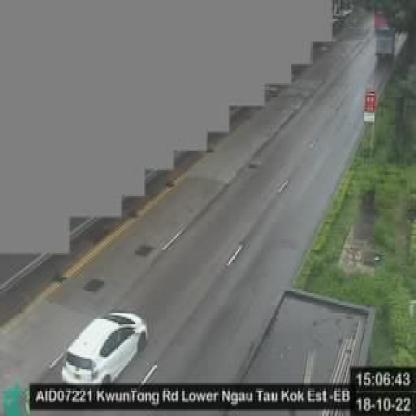Car: (58, 310, 148, 390)
